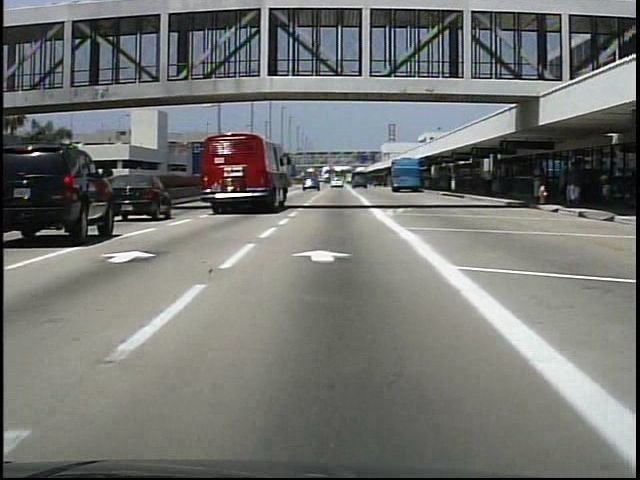person: (596, 170, 614, 214), (480, 166, 492, 193)
